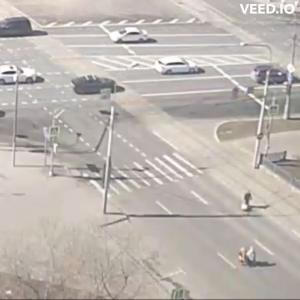car: (73, 75, 125, 97), (2, 16, 49, 40), (111, 28, 156, 49), (1, 66, 44, 87), (158, 59, 197, 78), (253, 67, 288, 86)
